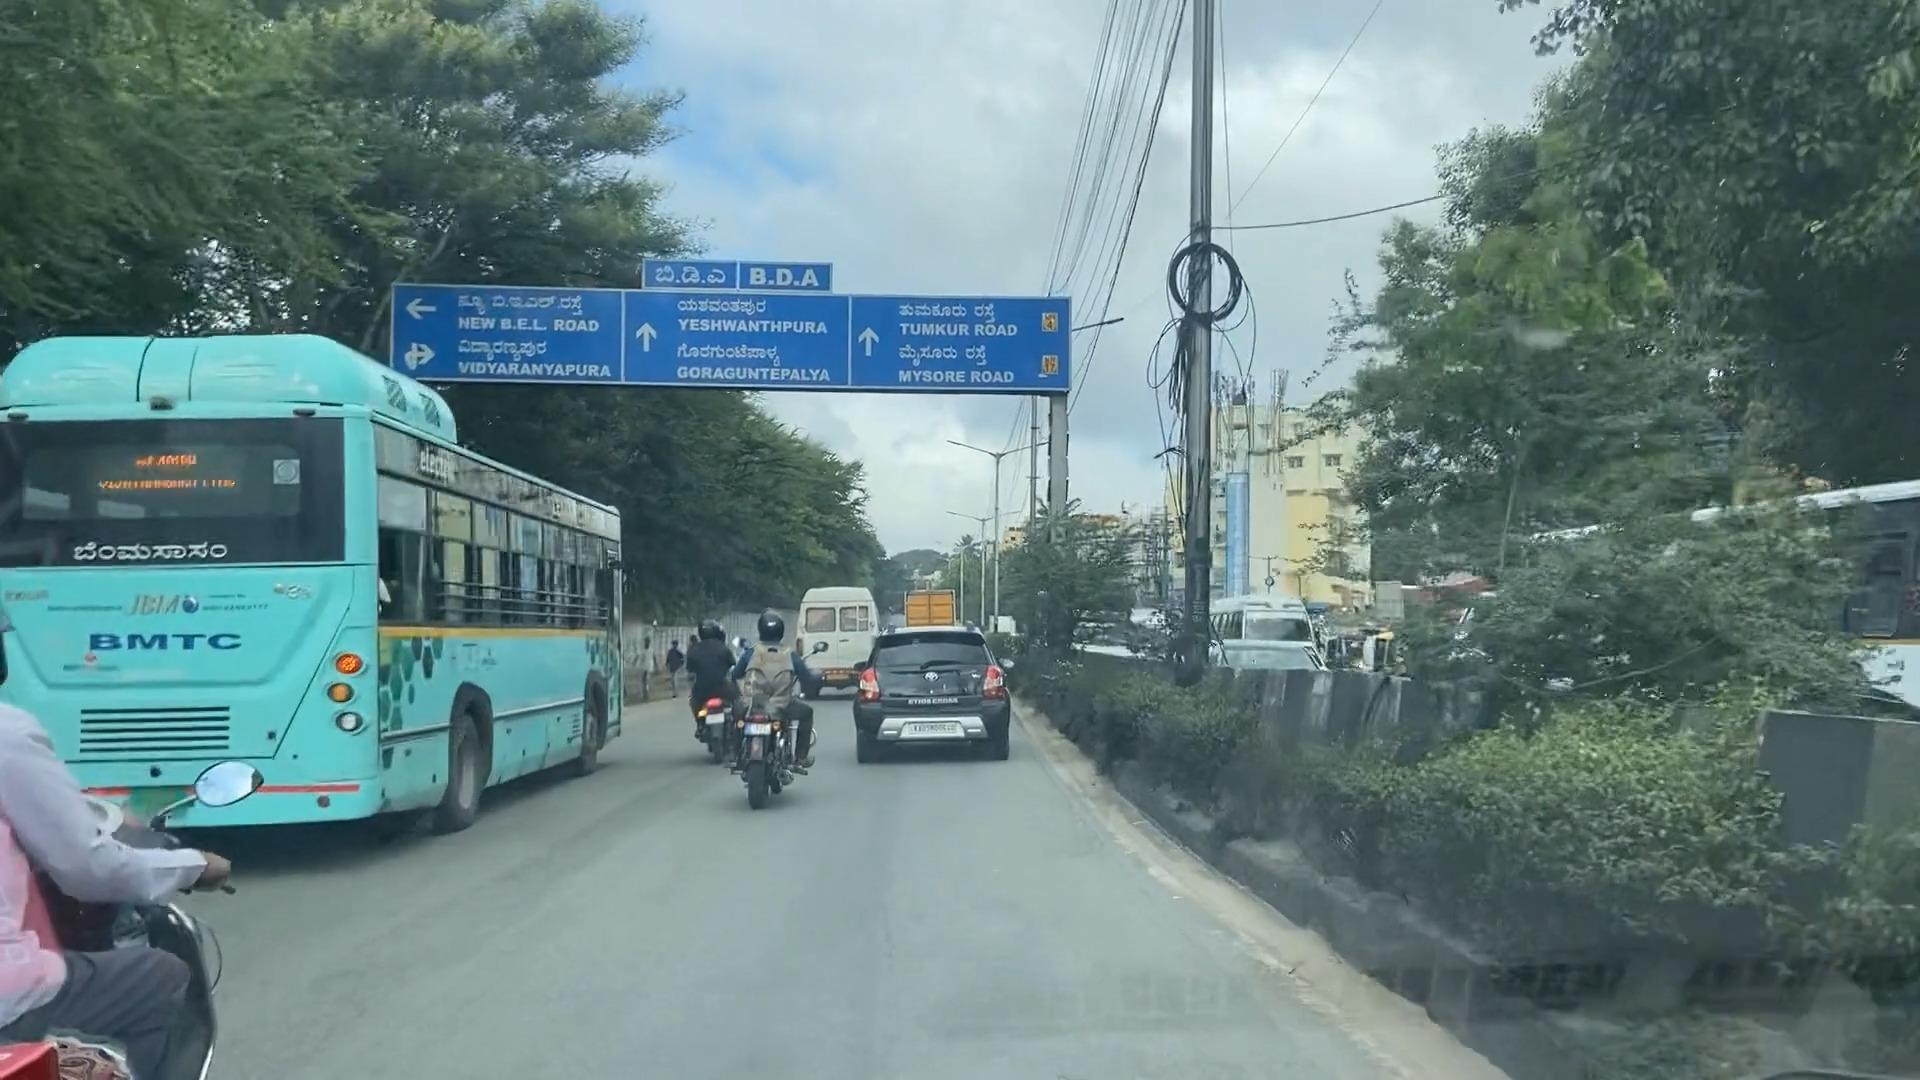HMV: (1, 348, 616, 825)
LMV: (861, 632, 1014, 770), (741, 621, 807, 806)
